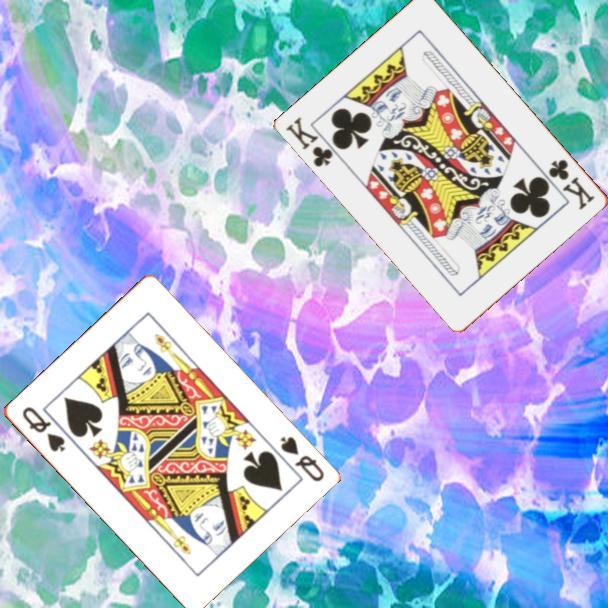c13: (282, 113, 336, 170), (545, 155, 598, 213)
s12: (18, 403, 68, 455), (276, 433, 326, 485)
